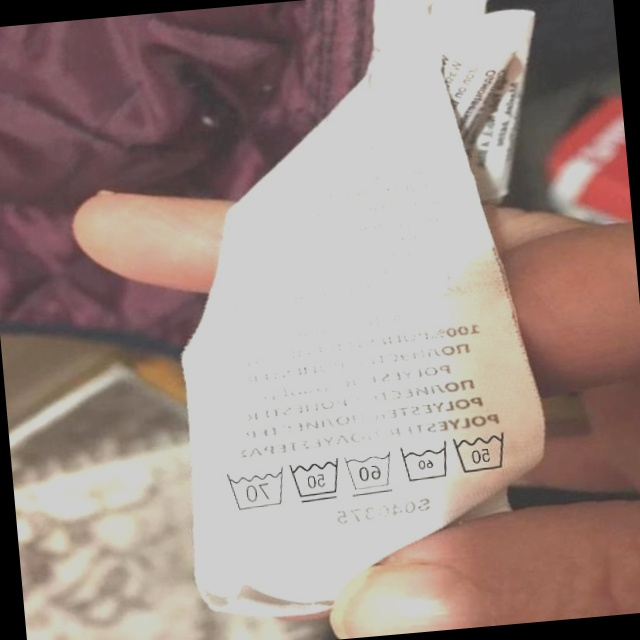50C: (448, 424, 514, 479), (285, 454, 345, 507)
60C: (340, 446, 397, 499), (395, 437, 453, 488)
70C: (220, 464, 287, 514)
